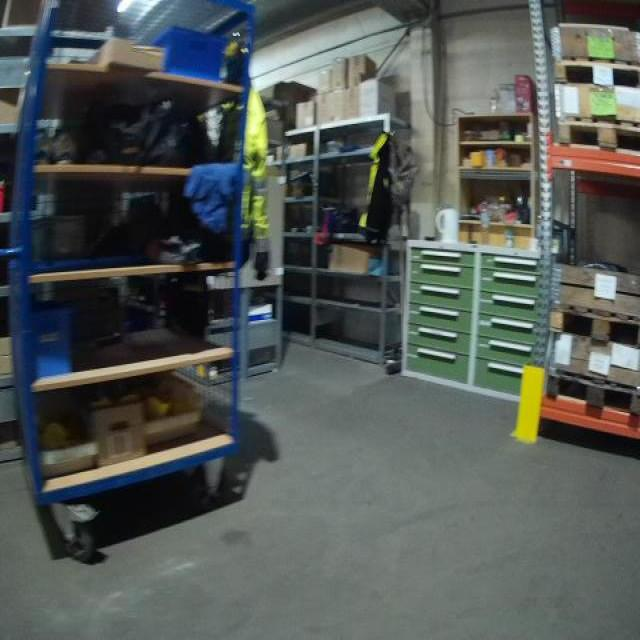pallet: (542, 364, 638, 423), (548, 299, 638, 348), (551, 111, 638, 156), (554, 53, 640, 91)
